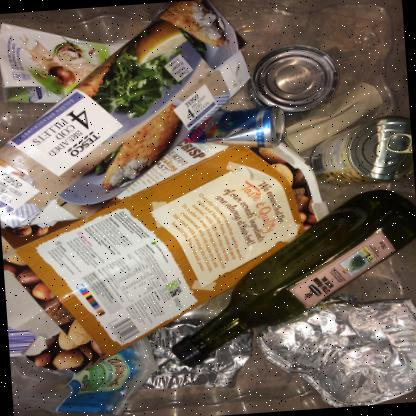Aluminium foil: (255, 295, 416, 408), (138, 318, 254, 390)
Drink can: (183, 106, 285, 148)
Drink carton: (0, 23, 126, 103)
Food Can: (311, 115, 414, 186), (248, 45, 339, 118)
Other carton: (0, 141, 330, 373), (0, 0, 251, 229)
Other plastic container: (172, 190, 416, 368)
Plastic bottle cap: (172, 342, 202, 368)
Plastic film: (10, 336, 159, 416)
Pop tab: (386, 133, 412, 153)
Toilet tube: (283, 82, 383, 155)
